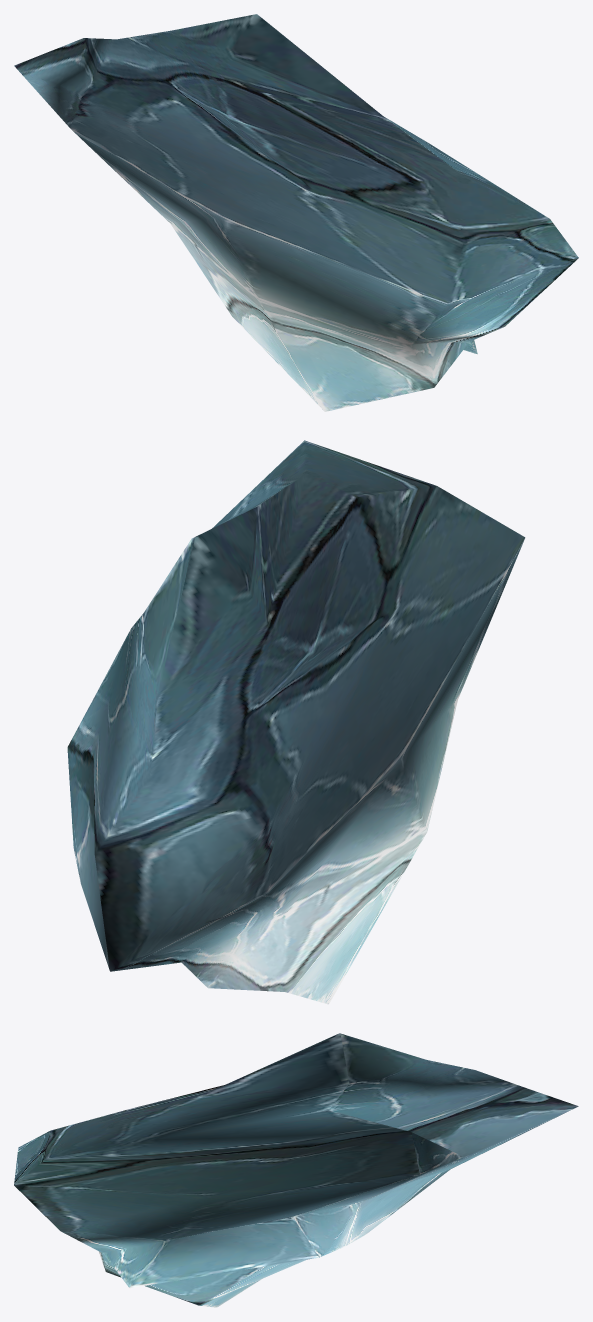
The model's file is IceShard (1).fbx.
The picture shows the model from 3 angles, top to bottom: view 1: azimuth 30°, elevation 25°; view 2: azimuth 150°, elevation 25°; view 3: azimuth 270°, elevation 25°; orthographic projection. The views are drawn at different scales.
Visible parts, largest first — view 1: ice (1); view 2: ice (1); view 3: ice (1).
Boxes of the visible parts, box(x1,y1,x2,y2) form: ice (1): box(14, 14, 578, 411); ice (1): box(67, 440, 525, 1004); ice (1): box(14, 1033, 578, 1307).
Bounding box in the file's own units: 0.8657 × 1.19 × 2.19.
